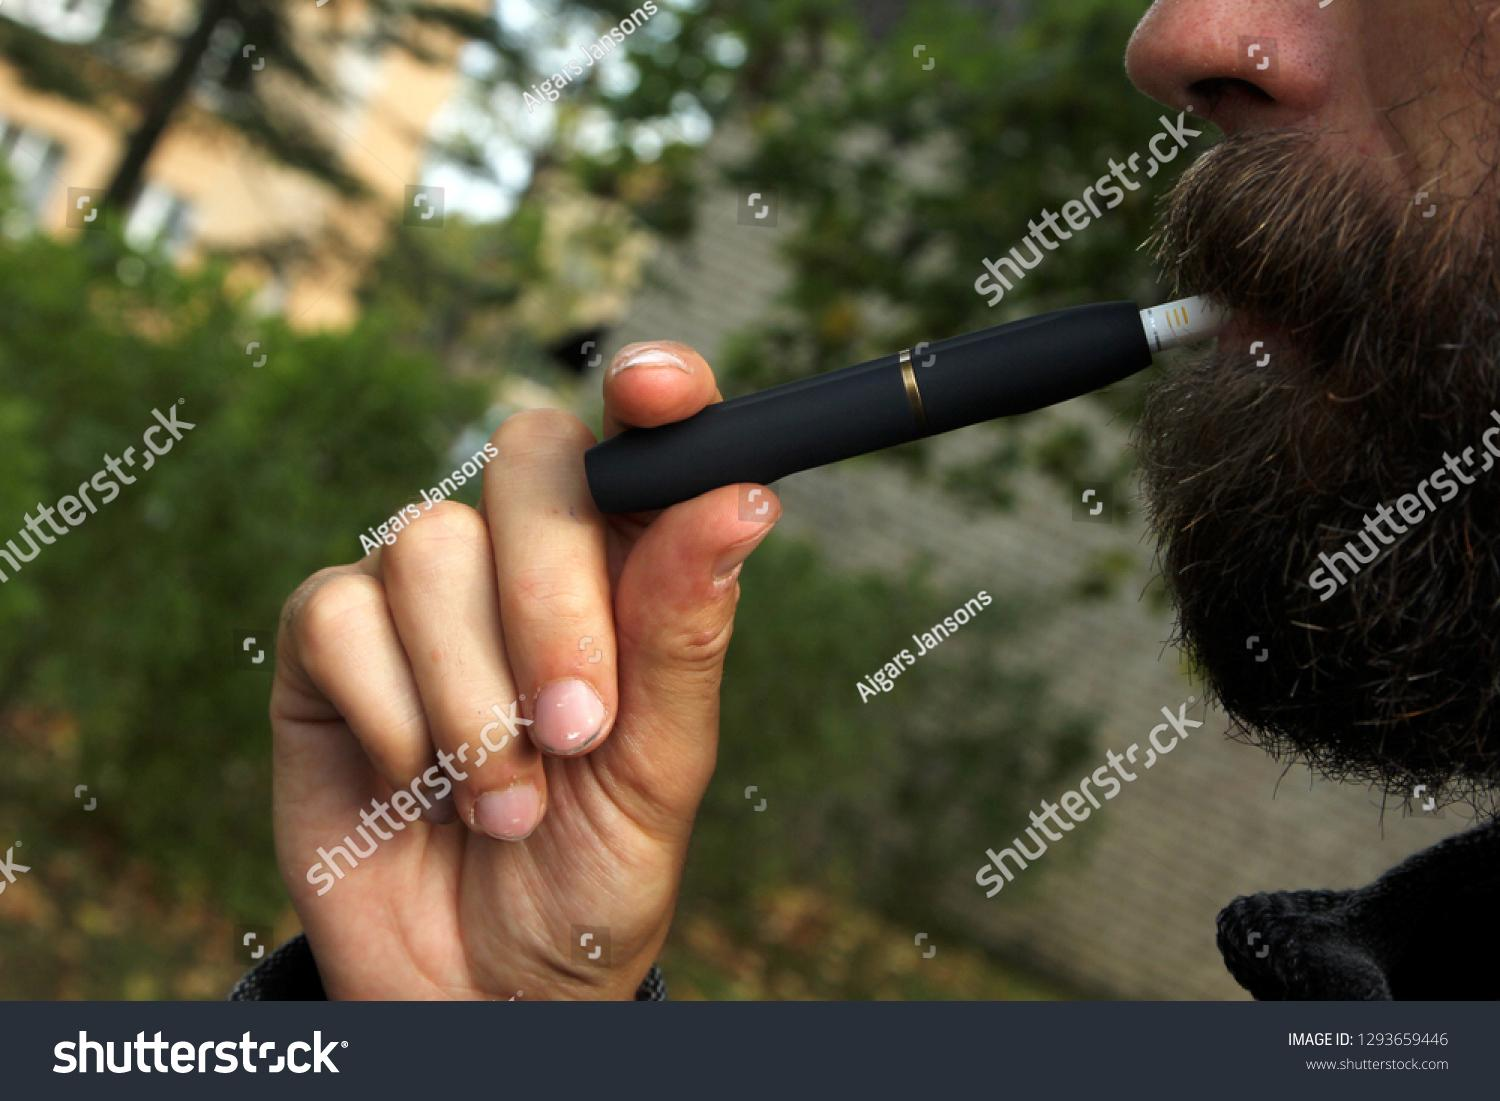iqos: (586, 296, 1227, 514)
